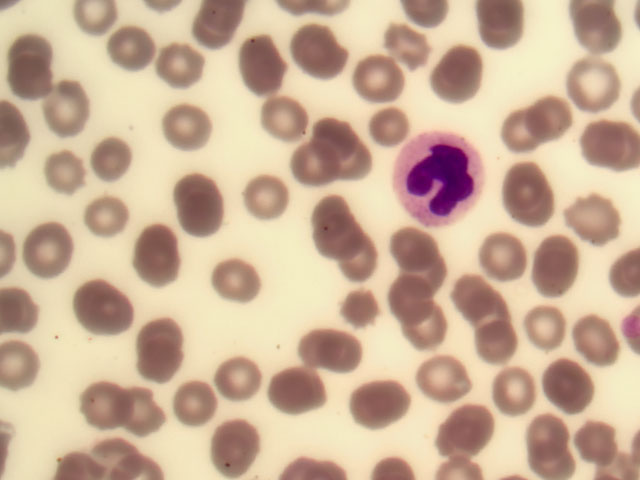RBC: (105, 25, 154, 74), (4, 21, 53, 70), (6, 56, 55, 105), (41, 85, 90, 134), (41, 148, 90, 197), (89, 133, 138, 182), (82, 193, 131, 242), (28, 224, 77, 273), (129, 213, 178, 262), (133, 238, 182, 287), (169, 193, 218, 242), (172, 170, 221, 219), (165, 98, 214, 147), (156, 39, 205, 88), (240, 37, 289, 86), (191, 5, 240, 54), (294, 26, 343, 75), (263, 95, 312, 144), (243, 179, 292, 228), (287, 141, 336, 190), (310, 109, 359, 158), (334, 148, 383, 197), (370, 100, 419, 149), (350, 55, 399, 104), (383, 20, 432, 69), (432, 49, 481, 98), (486, 110, 535, 159), (533, 86, 582, 135), (573, 58, 622, 107), (575, 120, 624, 169), (499, 161, 548, 210), (566, 189, 615, 238), (539, 243, 588, 292), (479, 230, 528, 279), (450, 273, 499, 322), (464, 290, 513, 339), (471, 317, 520, 366), (524, 302, 573, 351), (564, 320, 613, 369), (550, 360, 599, 409), (491, 368, 540, 417), (427, 359, 476, 408), (396, 303, 445, 352), (380, 271, 429, 320), (397, 252, 446, 301), (388, 226, 437, 275), (339, 237, 388, 286), (317, 214, 366, 263), (314, 185, 363, 234), (217, 256, 266, 305), (342, 285, 391, 334), (298, 324, 347, 373), (271, 363, 320, 412), (211, 354, 260, 403), (178, 371, 227, 420), (138, 346, 187, 395), (131, 316, 180, 365), (83, 283, 132, 332), (75, 376, 124, 425), (115, 390, 164, 439), (211, 427, 260, 476), (442, 407, 491, 456), (346, 379, 395, 428), (519, 404, 568, 453), (569, 414, 618, 463), (567, 2, 616, 51), (1, 339, 49, 388), (477, 1, 526, 49)
WBC: (392, 129, 489, 229)
